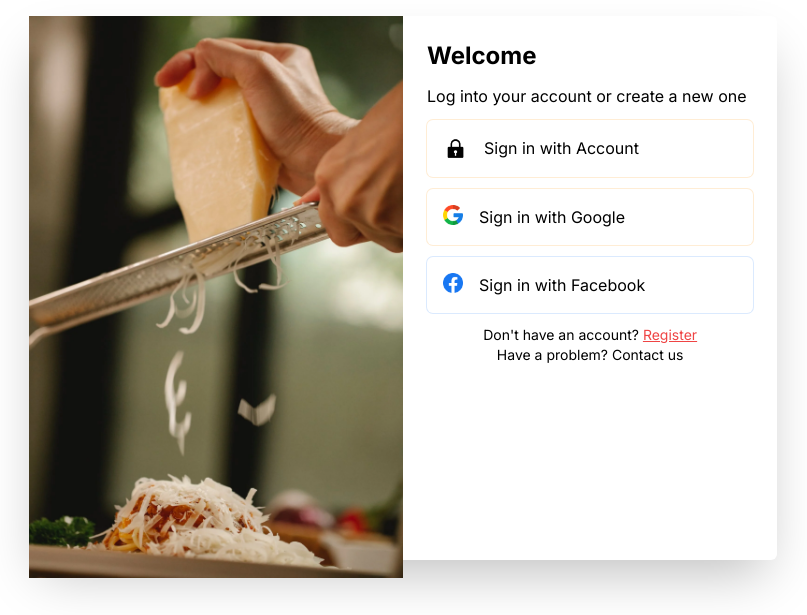
Test case: LoginPage › should go back to options from LoginForm
Click the button "Sign in with Account". click: (590,148)
box: [427, 120, 753, 177]
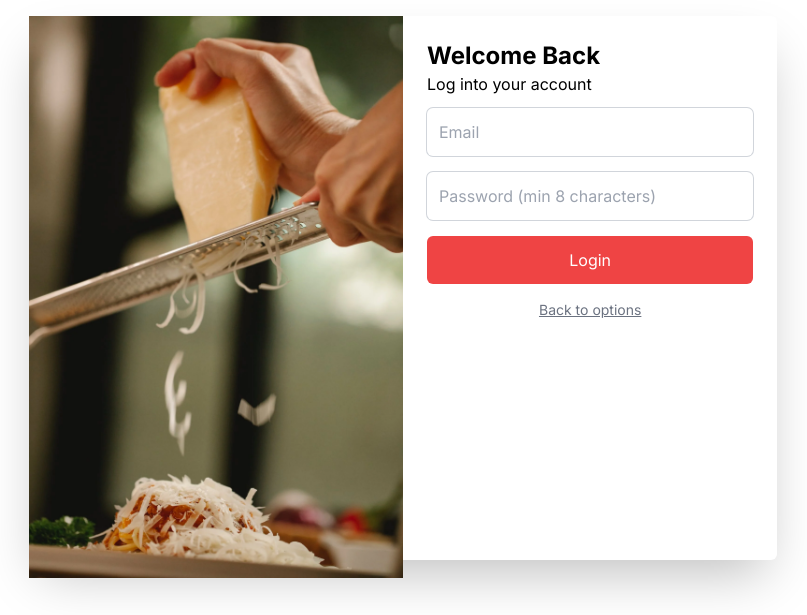
expect the button "Sign in with Account" is gone: met
Click the button "Back to options". click: (590,310)
box: [427, 300, 753, 320]
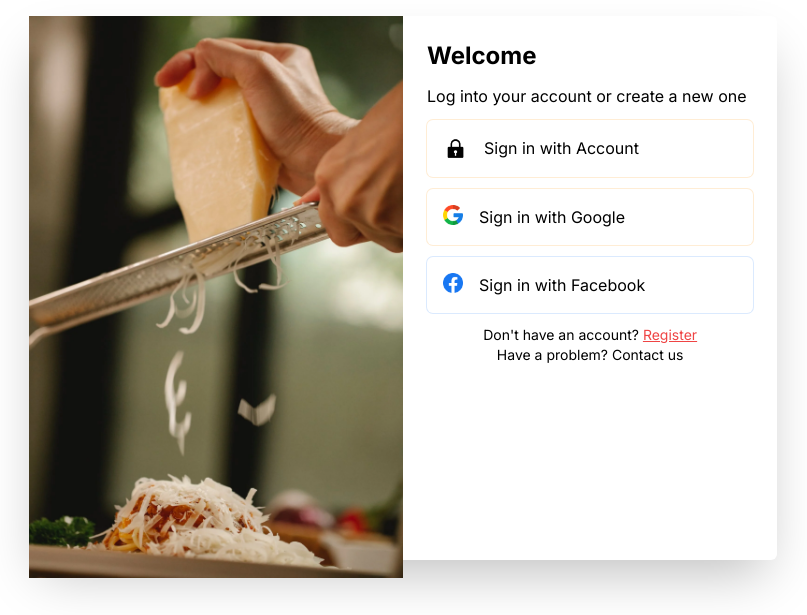
expect the heading "Welcome" is shown: met, box [427, 41, 537, 70]
expect the text "Sign in with Account" is shown: met, box [484, 136, 639, 160]
